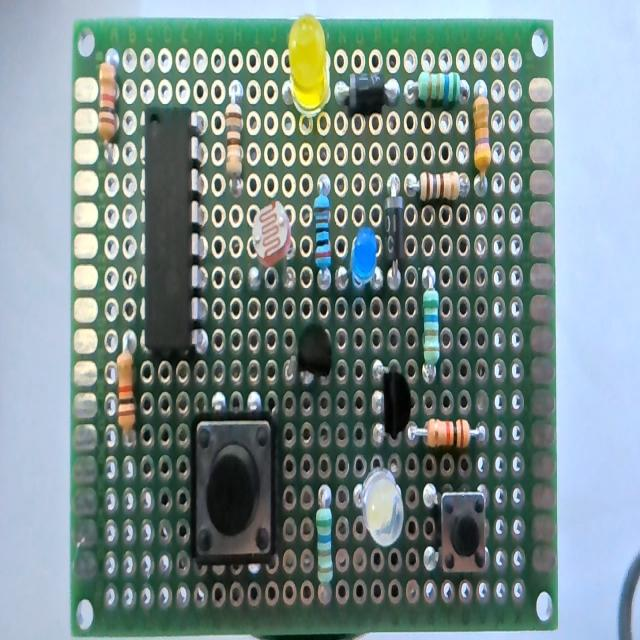IC: (145, 111, 195, 358)
cds: (249, 182, 294, 286)
diode: (336, 74, 398, 113), (386, 176, 405, 278)
led: (284, 13, 333, 121), (357, 466, 406, 548), (340, 217, 382, 302)
resistor: (116, 332, 137, 437), (98, 57, 119, 161), (410, 419, 479, 448), (314, 481, 332, 591), (227, 84, 245, 194), (412, 68, 467, 104), (422, 268, 440, 376), (408, 173, 466, 203), (473, 93, 491, 185), (313, 186, 331, 269)
switch: (191, 413, 278, 564), (426, 486, 488, 572)
transistor: (383, 368, 412, 440), (298, 324, 332, 379)
